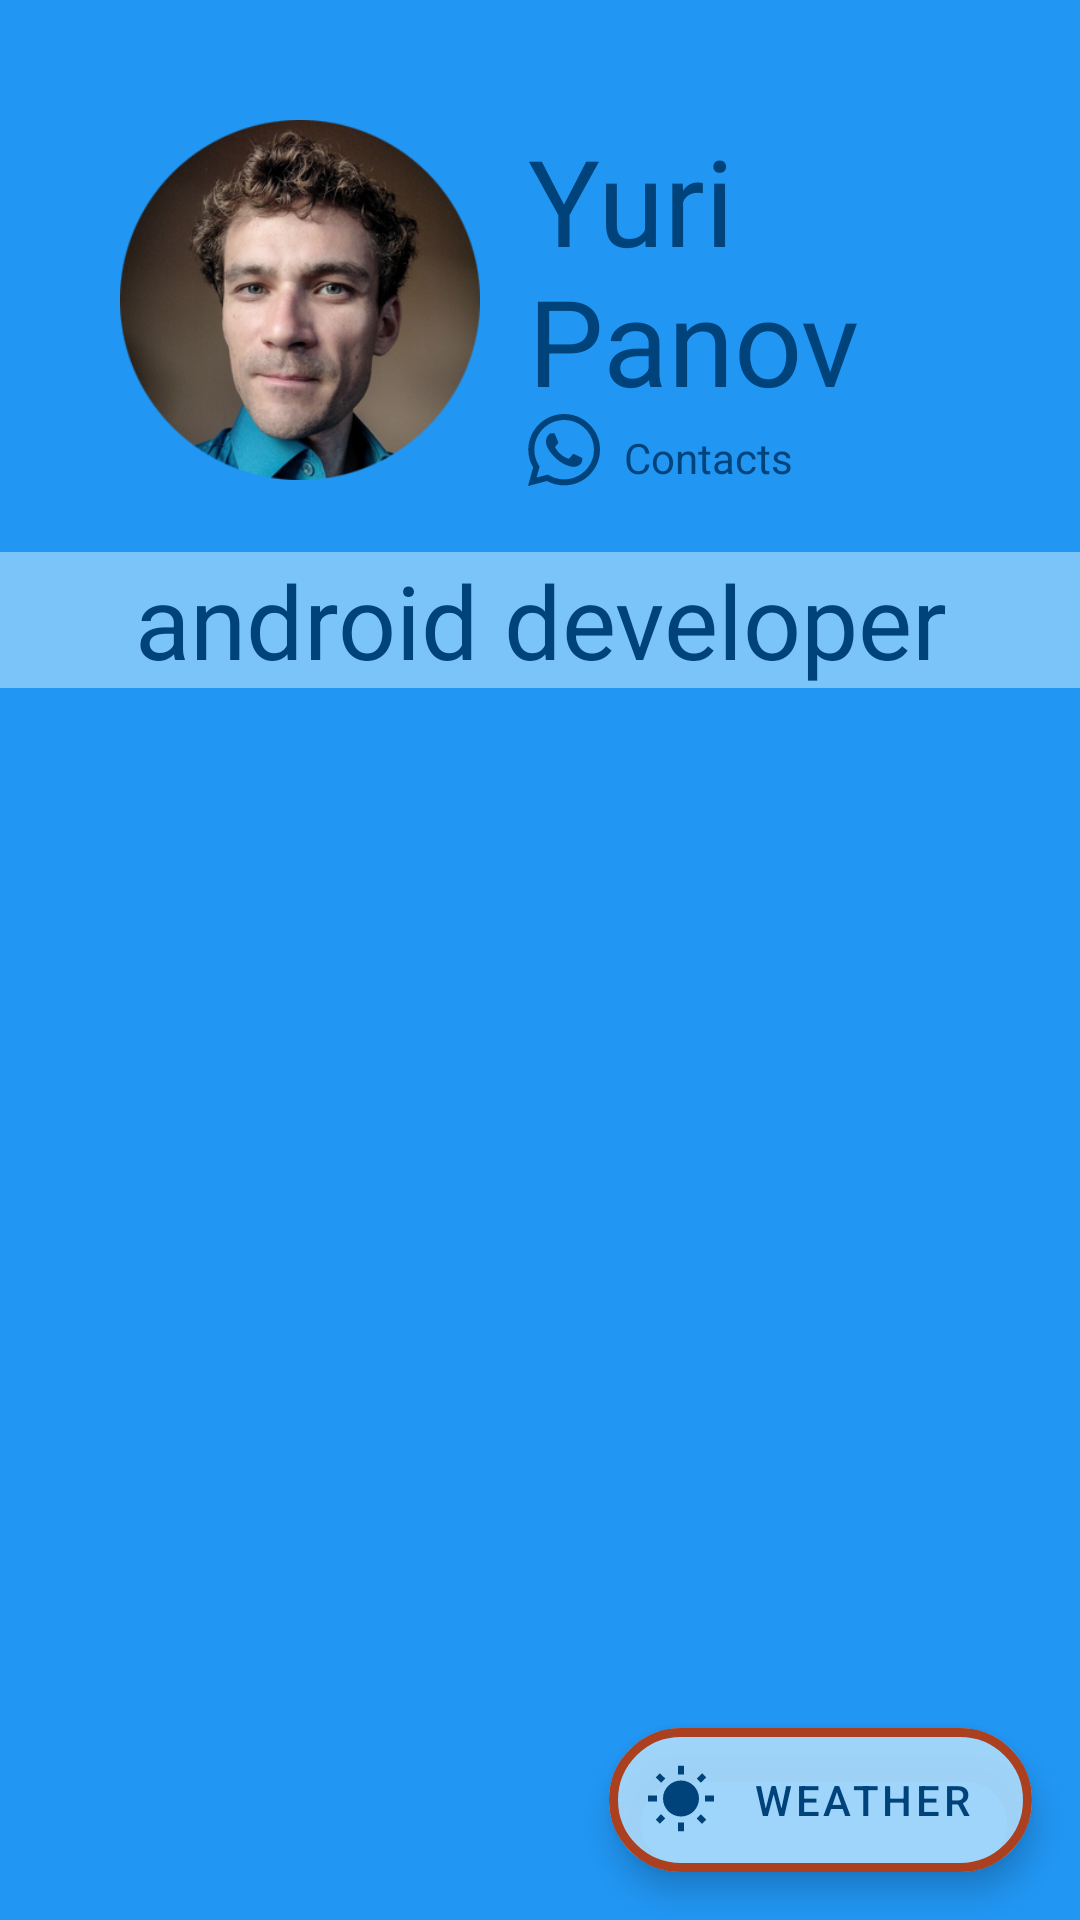

Named icons in this screenshot (1080w x 1920h) and their centers, (x,y):
Personal Photo: (300,300)
